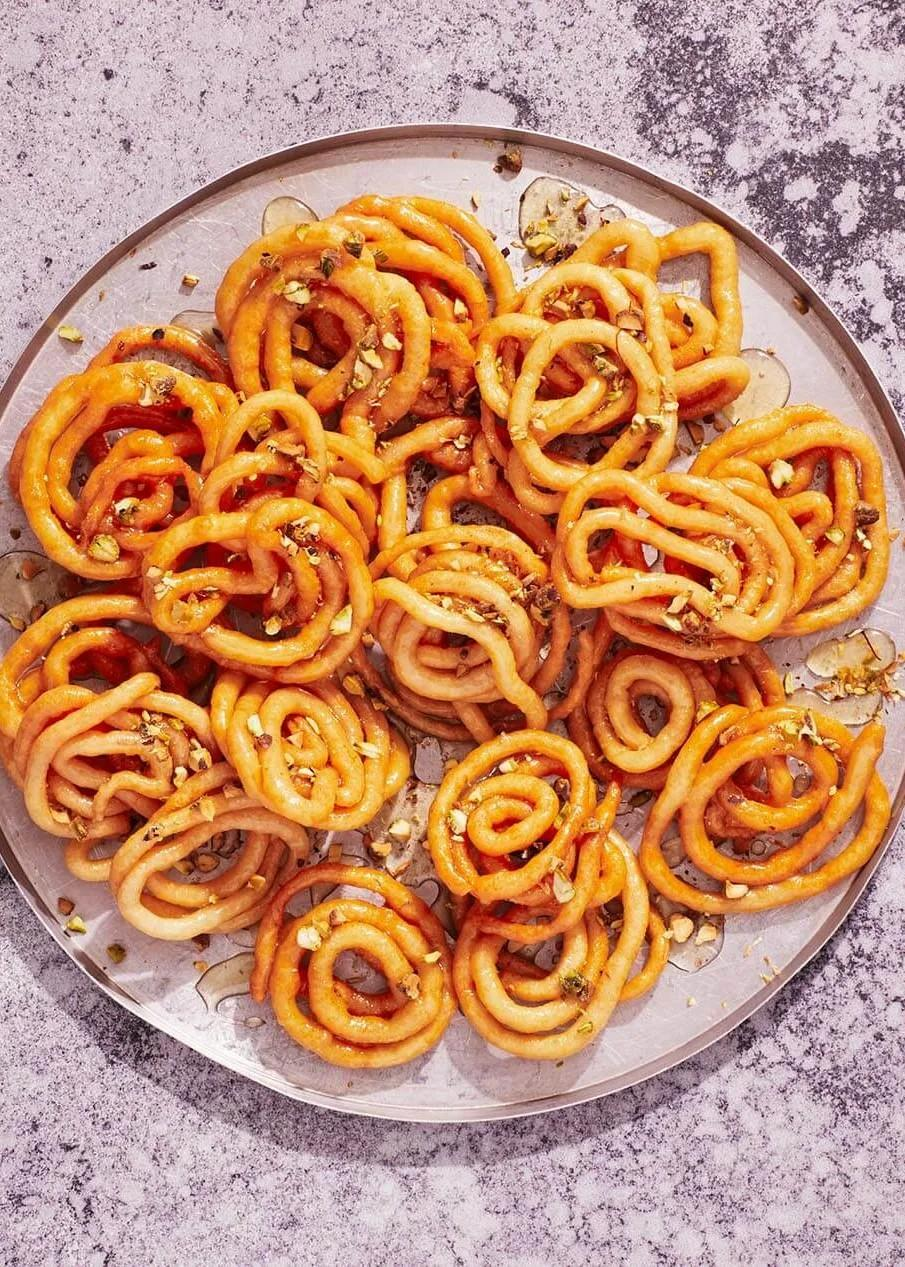Jalebi: (1, 190, 892, 1073)
